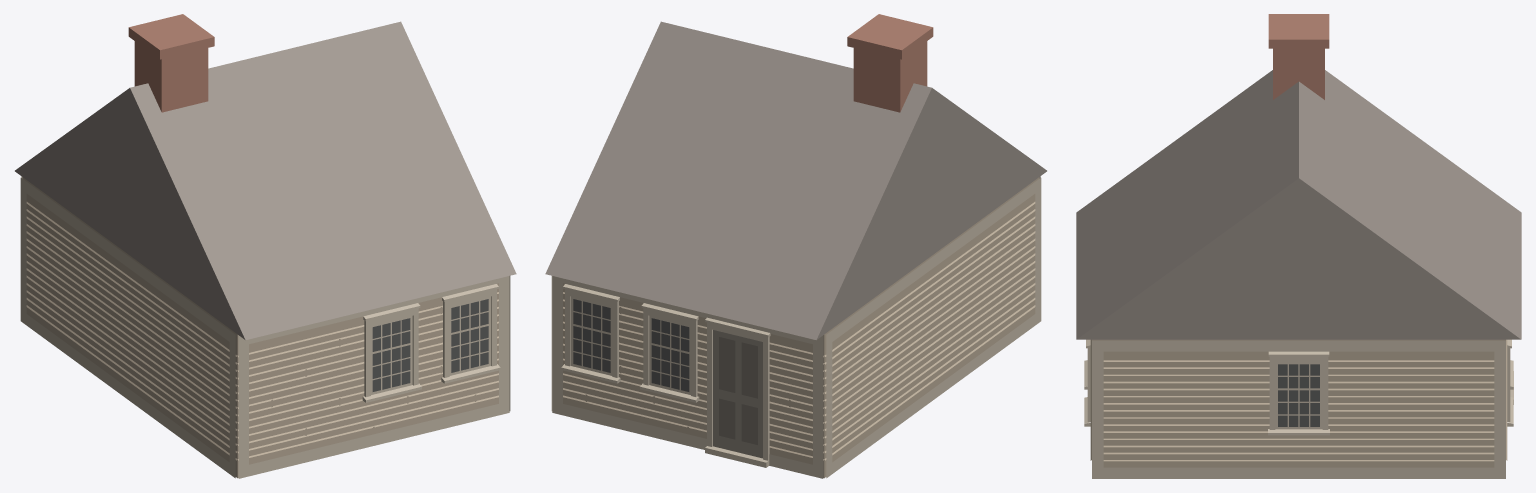
Rendered from inf_artisan_dwelling_west_a__inferred_1835.glb.
3 renders of one model, left to right at view 1: azimuth 30°, elevation 25°; view 2: azimuth 150°, elevation 25°; view 3: azimuth 270°, elevation 25°, orthographic. The views are drawn at different scales.
Visible parts, largest first — view 1: inf_artisan_dwelling_west_a__inferred_1835; view 2: inf_artisan_dwelling_west_a__inferred_1835; view 3: inf_artisan_dwelling_west_a__inferred_1835.
Boxes of the visible parts, <box> form: inf_artisan_dwelling_west_a__inferred_1835: <box>15,14,516,478</box>; inf_artisan_dwelling_west_a__inferred_1835: <box>545,14,1046,478</box>; inf_artisan_dwelling_west_a__inferred_1835: <box>1076,14,1521,478</box>.
Bounding box in the file's own units: 5.03 × 6.14 × 7.21.
